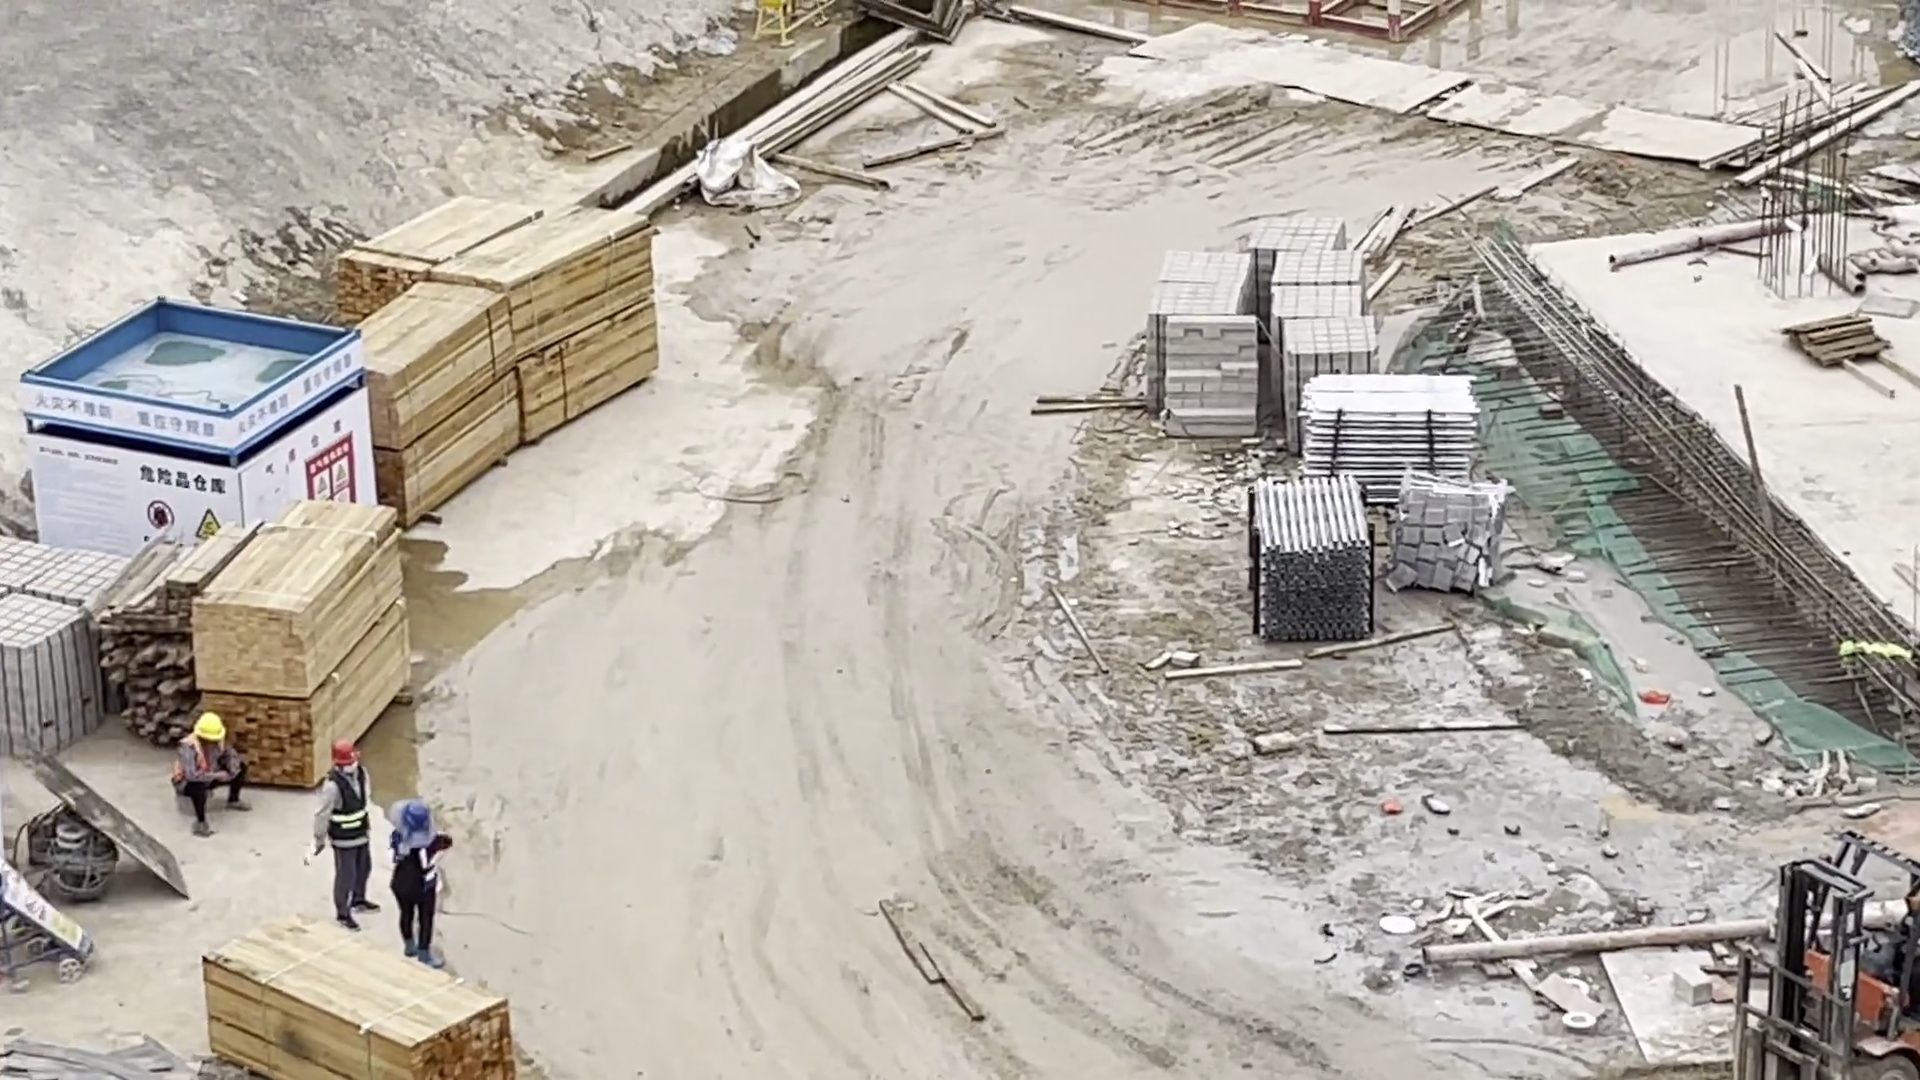brick: (1142, 204, 1385, 435), (1, 523, 141, 769)
helmet: (386, 797, 446, 845), (185, 707, 233, 742), (323, 742, 366, 765)
person: (374, 772, 466, 981), (154, 700, 262, 847), (312, 726, 382, 929)
scaffold: (1249, 472, 1390, 649), (1284, 368, 1487, 491)
slogan: (15, 299, 391, 557)
vest: (384, 824, 461, 905), (311, 766, 377, 847), (167, 732, 227, 792)
wood: (337, 188, 675, 538), (107, 489, 434, 796), (184, 908, 540, 1080)
